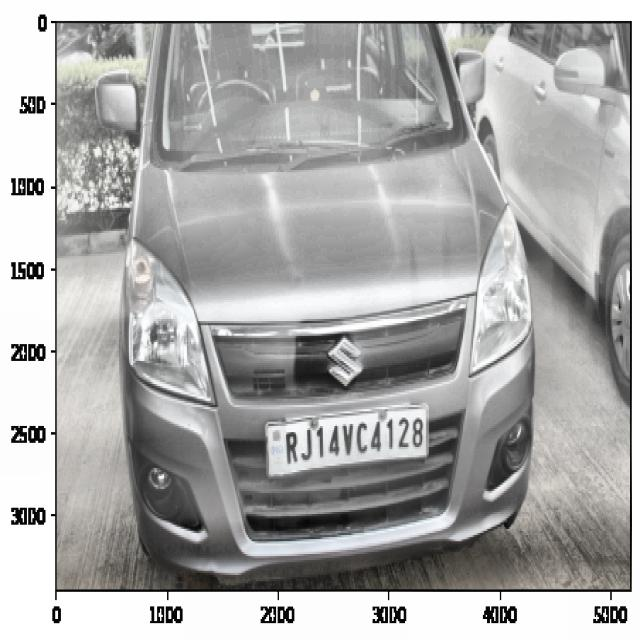license_plate: (280, 412, 427, 470)
